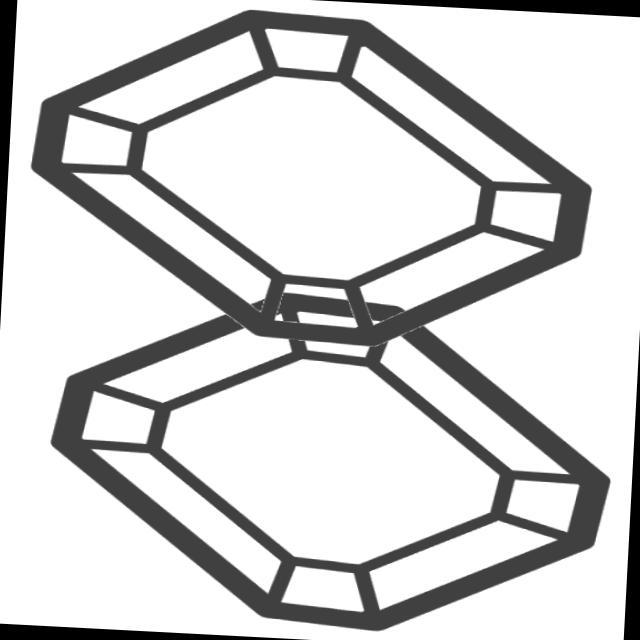emerald: (20, 267, 630, 640), (13, 1, 615, 369)
